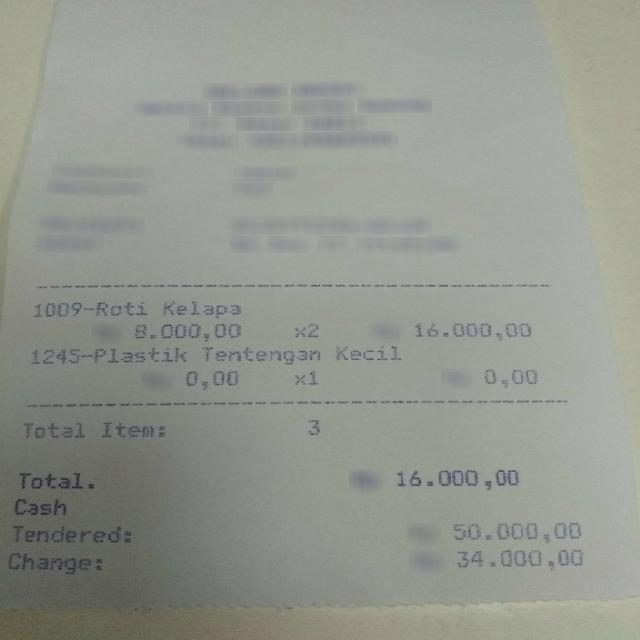kertas: (2, 0, 636, 609)
